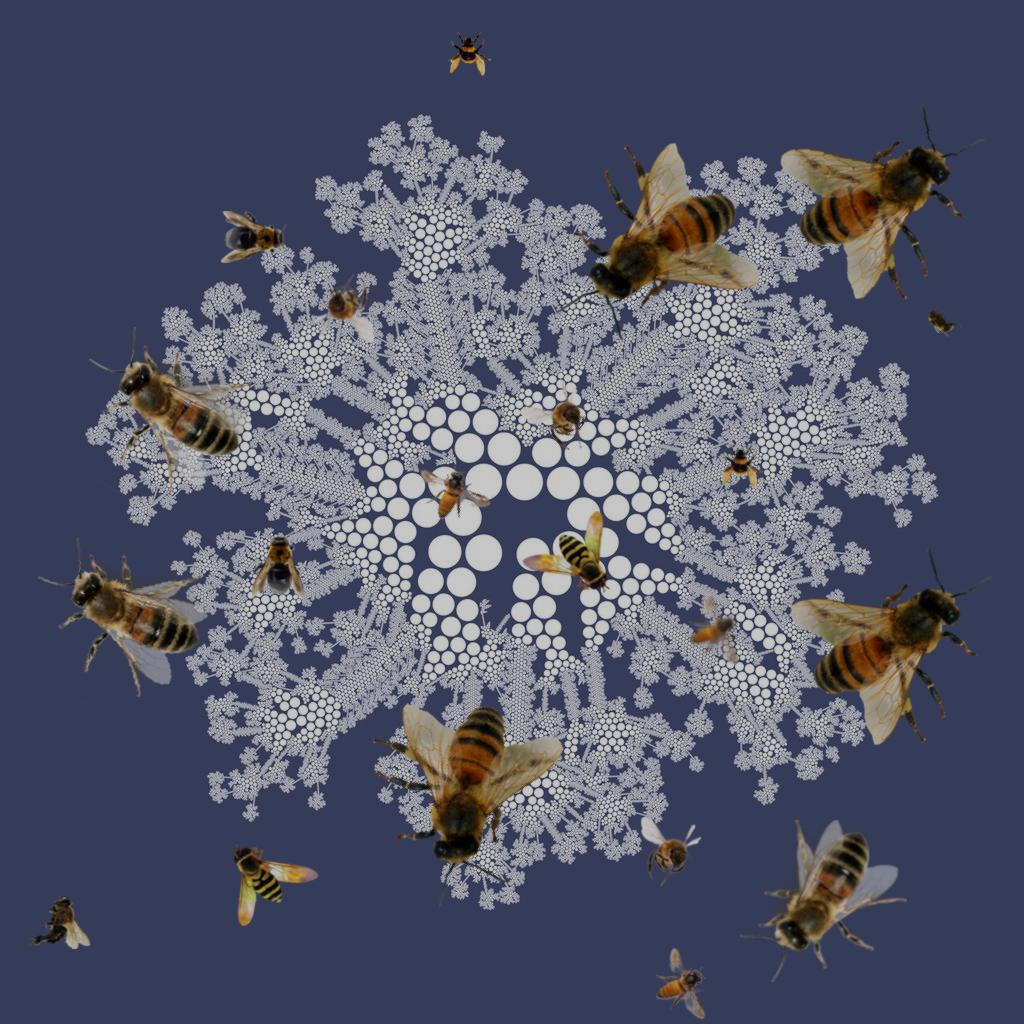Bee: (321, 644, 606, 930), (770, 94, 989, 308), (790, 546, 994, 745), (556, 143, 760, 342), (32, 519, 219, 711), (89, 327, 251, 494), (740, 820, 907, 982), (518, 369, 611, 463), (407, 449, 493, 536), (231, 844, 319, 926), (522, 511, 610, 593), (641, 817, 702, 887), (313, 273, 374, 343), (656, 948, 706, 1019), (689, 594, 739, 665), (221, 211, 289, 263), (252, 531, 304, 599), (28, 896, 90, 949), (917, 299, 963, 343), (720, 444, 764, 488), (448, 32, 492, 76)
